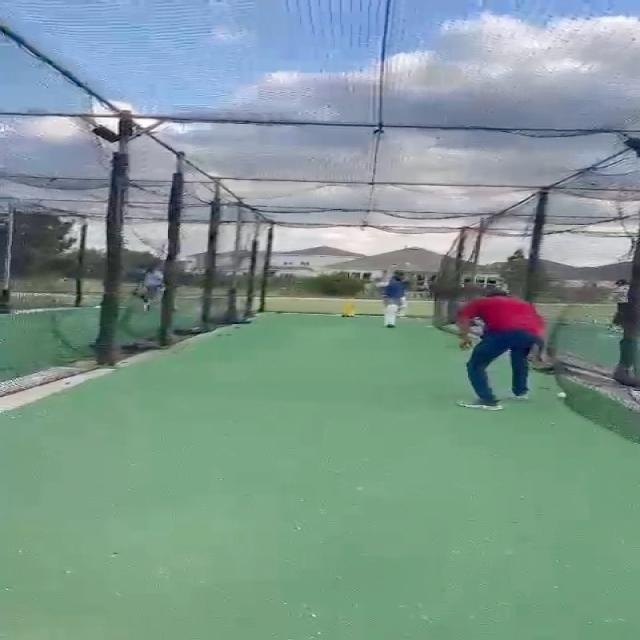batsman: (374, 263, 413, 329)
